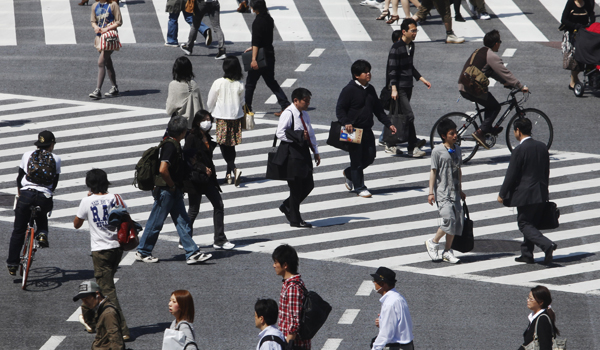pedestrian: (130, 116, 211, 268), (501, 115, 562, 262), (264, 85, 328, 220), (329, 59, 388, 195), (423, 118, 470, 272), (380, 17, 429, 158), (210, 52, 250, 186)
